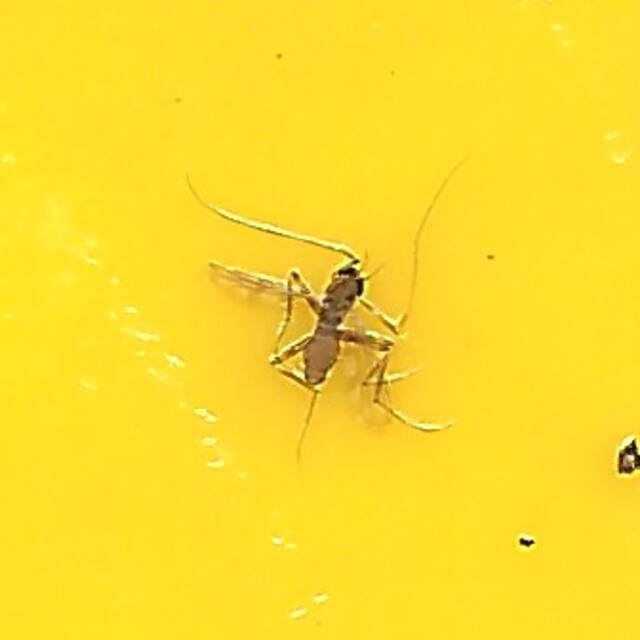Nematocera: (190, 185, 450, 455)
